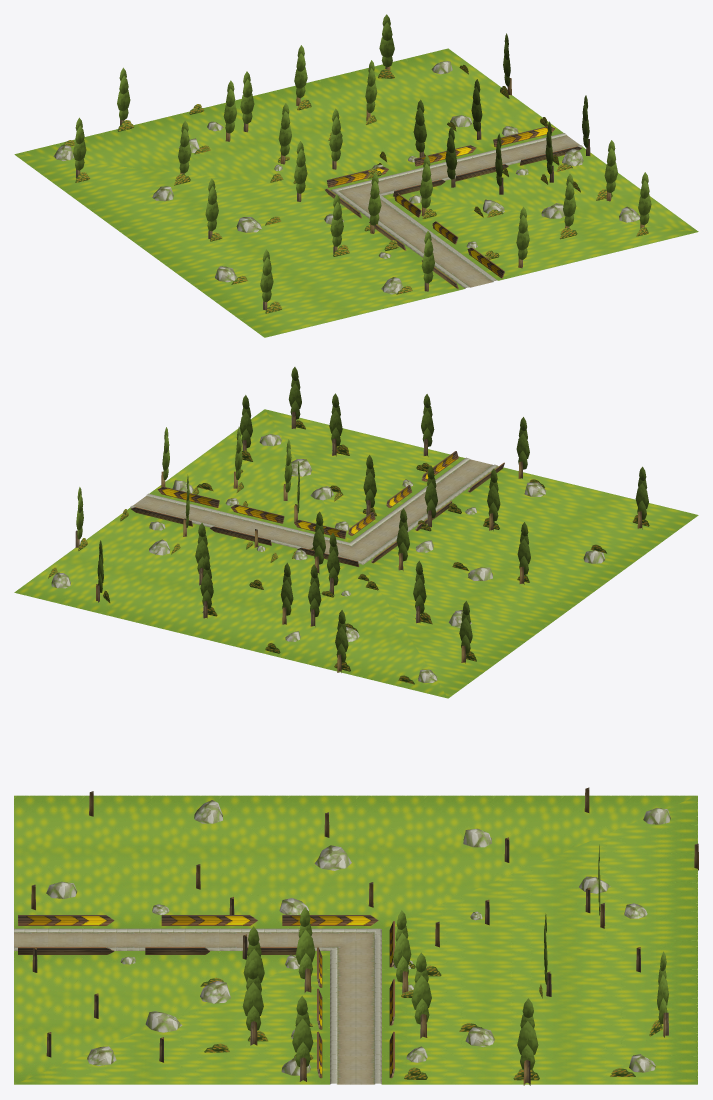
The model's file is VillageRoad01_Right.FBX.
The picture shows the model from 3 angles, top to bottom: view 1: azimuth 30°, elevation 25°; view 2: azimuth 150°, elevation 25°; view 3: azimuth 270°, elevation 25°; orthographic projection. The views are drawn at different scales.
Parts seen in each view (by area): view 1: Road, Tree (×19); view 2: Road, Tree (×18); view 3: Road, Tree (×8), Fence (×4), Stone (×3).
Part boxes in pixels (<box>): Road: <box>14,48,698,337</box>; Tree (×19): <box>73,14,651,310</box>; Road: <box>14,409,698,698</box>; Tree (×18): <box>200,367,648,672</box>; Road: <box>14,795,697,1084</box>; Tree (×8): <box>242,907,668,1085</box>; Fence (×4): <box>18,915,378,954</box>; Stone (×3): <box>145,845,351,1032</box>.
Size of the model in its own units: 10000 by 1434 by 10015.
